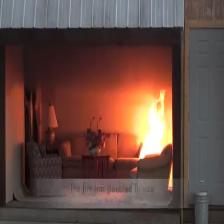fire: (135, 95, 167, 161)
